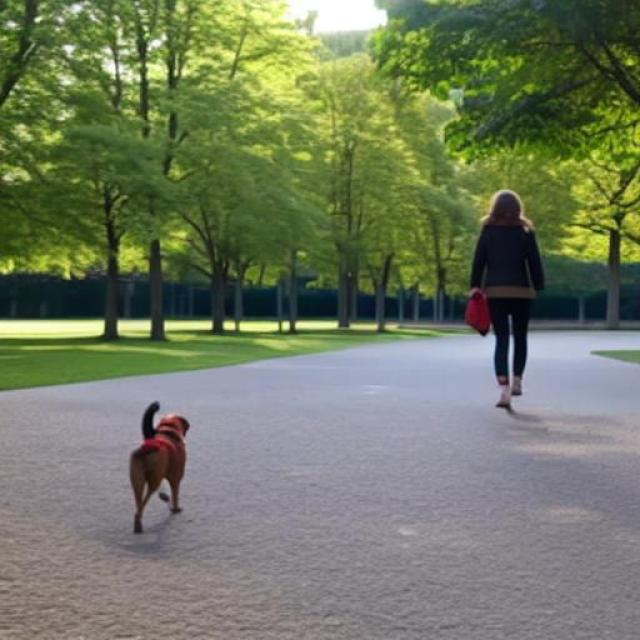Unleashed_Dog: (129, 289, 531, 534)
